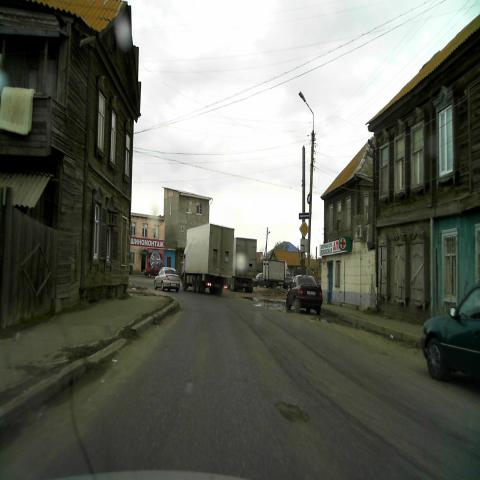8_13: (300, 239, 308, 252)
